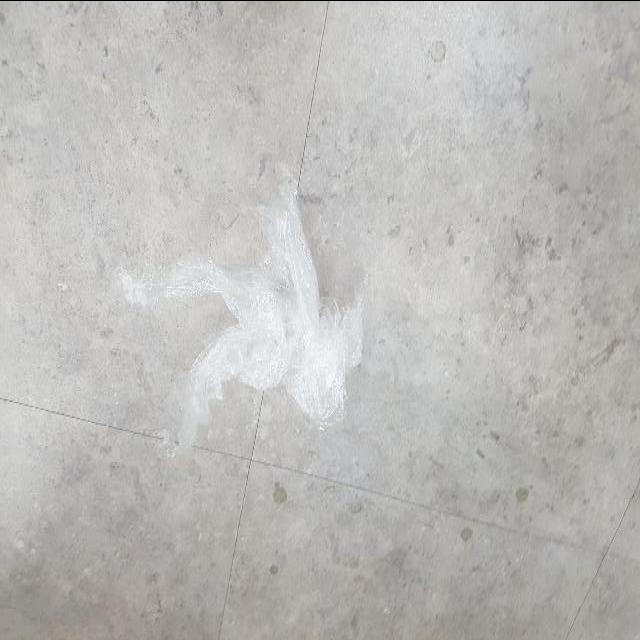plastic bag: (116, 160, 364, 460)
